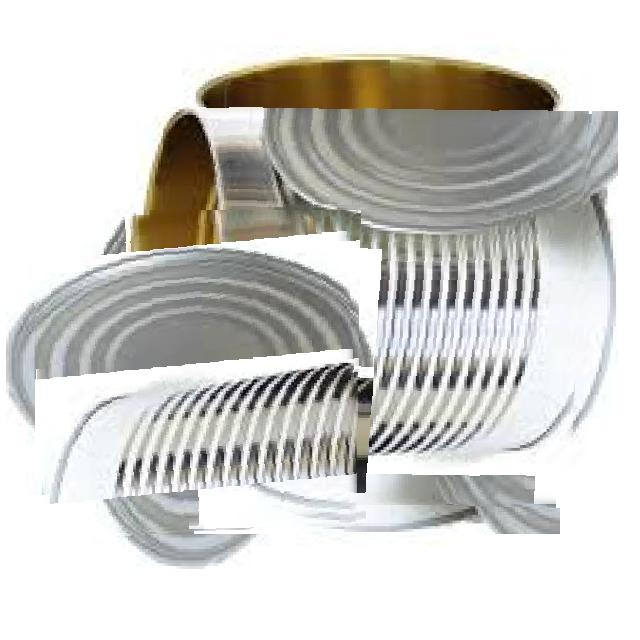recyclable: (163, 79, 591, 507), (35, 210, 361, 536)
